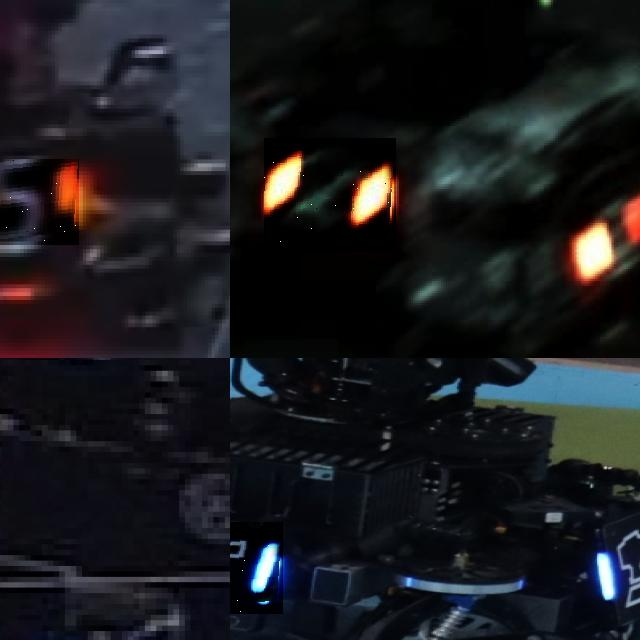Bs: (230, 522, 283, 614), (592, 518, 640, 611)
R5: (0, 159, 79, 245)
Rs: (264, 138, 396, 252)
